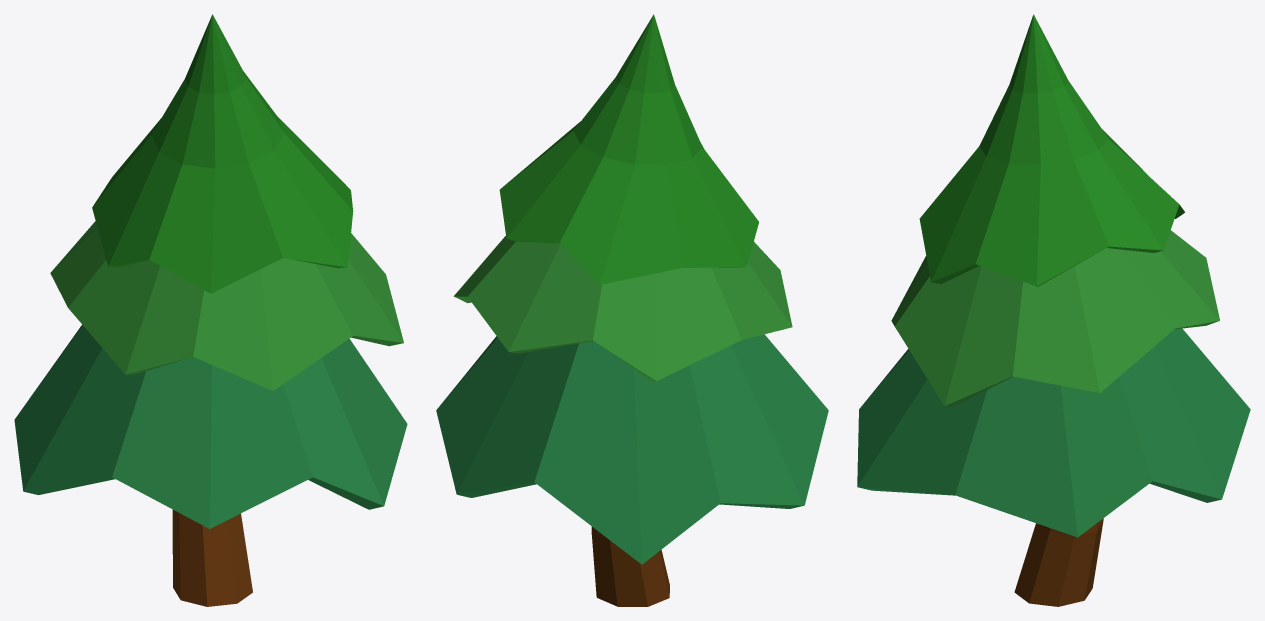
File: pine_tree_1.glb
The picture shows the model from 3 angles, left to right: view 1: azimuth 30°, elevation 25°; view 2: azimuth 150°, elevation 25°; view 3: azimuth 270°, elevation 25°; orthographic projection. The views are drawn at different scales.
Parts seen in each view (by area): view 1: pine_tree_1; view 2: pine_tree_1; view 3: pine_tree_1.
Boxes of the visible parts, box(x1,y1,x2,y2) form: pine_tree_1: box(14, 14, 407, 606); pine_tree_1: box(436, 14, 828, 606); pine_tree_1: box(857, 14, 1250, 606).
Bounding box in the file's own units: 6.03 × 9.36 × 5.84.
